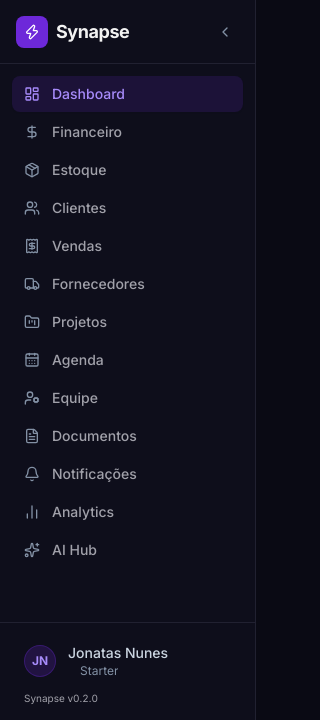
Scenario: Carregamento no desktop › recolher deixa só os ícones, e não some com a coluna
Click the button named "Recolher menu": [225, 32] box [211,18,239,46]
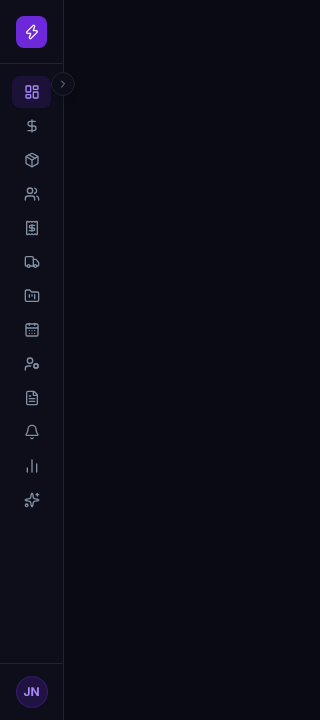
Now the text "Clientes" is gone
